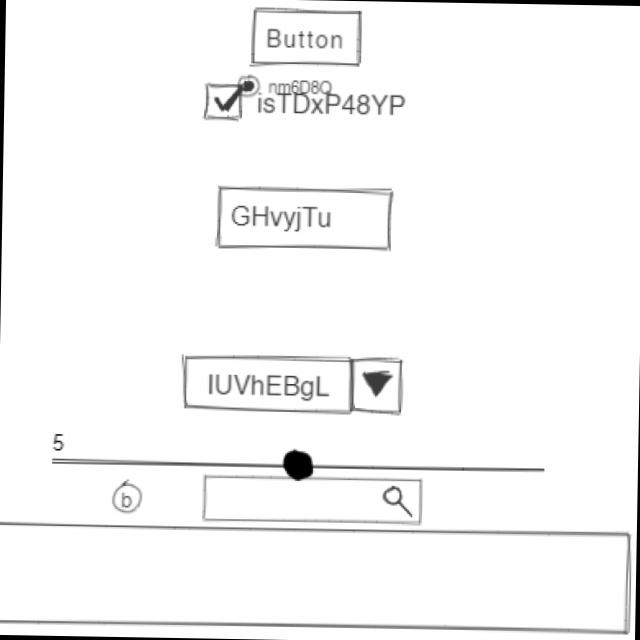button: (249, 4, 367, 70)
checkbox: (202, 82, 410, 128)
container: (1, 517, 634, 638)
icon-button: (112, 480, 145, 516)
input: (215, 183, 400, 255)
radio: (237, 72, 335, 99)
search: (200, 473, 426, 529)
select: (182, 350, 408, 420)
slider: (68, 445, 550, 487)
